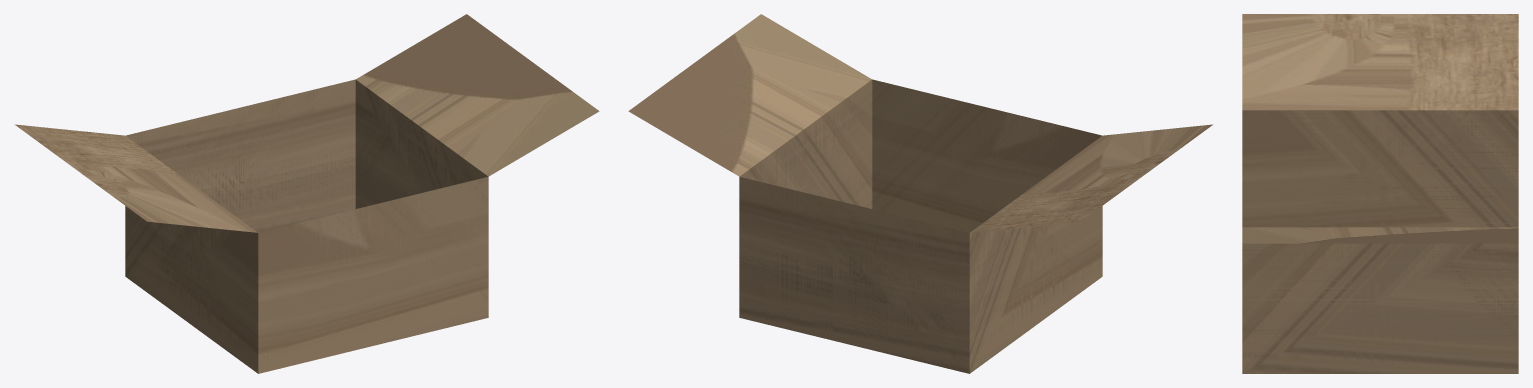
The picture shows the model from 3 angles, left to right: view 1: azimuth 30°, elevation 25°; view 2: azimuth 150°, elevation 25°; view 3: azimuth 270°, elevation 25°; orthographic projection. The views are drawn at different scales.
Visible parts, largest first — view 1: Cube.001; view 2: Cube.001; view 3: Cube.001.
Part boxes in pixels (bbox=[...]): Cube.001: bbox=[14, 14, 599, 373]; Cube.001: bbox=[628, 14, 1213, 373]; Cube.001: bbox=[1242, 14, 1518, 373].
Size of the model in its own units: 1.42 by 0.5397 by 0.7248.
Materials: 1 (1 with a texture image).
